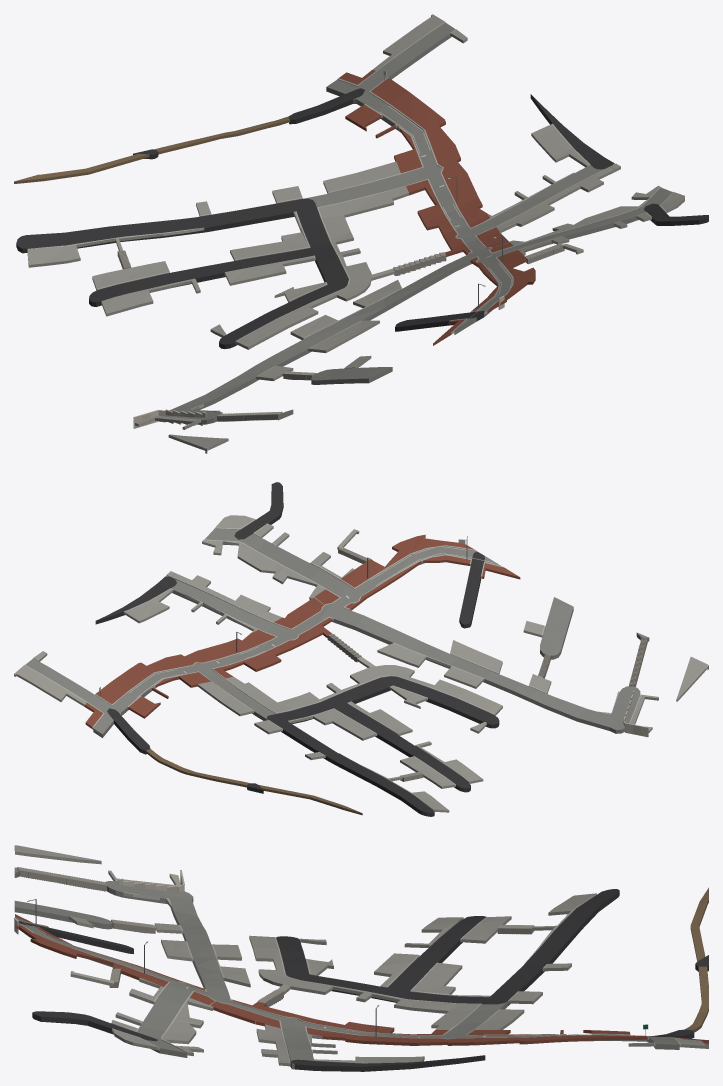
3 views of the same model, one above another, from view 1: azimuth 30°, elevation 25°; view 2: azimuth 150°, elevation 25°; view 3: azimuth 270°, elevation 25° (orthographic). The views are drawn at different scales.
Size of the model in its own units: 147 by 35.61 by 146.
